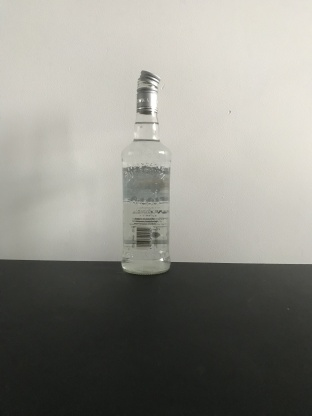nakretka: (134, 67, 162, 114)
